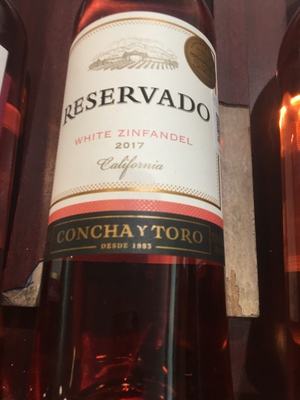reservado white zinfandel: (51, 10, 233, 392)
